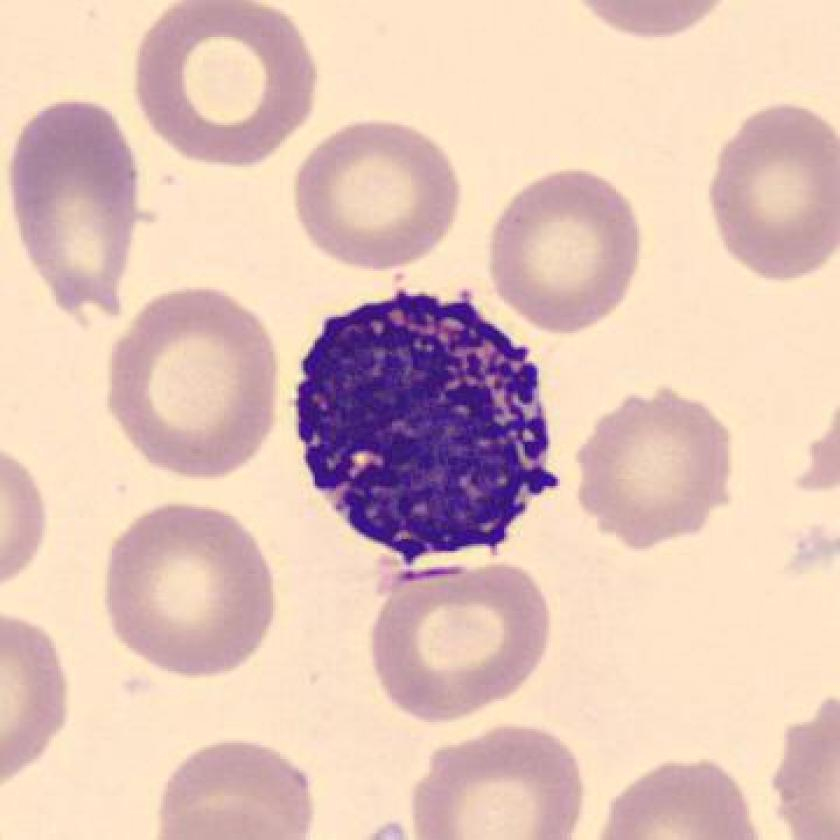basophil: (288, 269, 568, 575)
